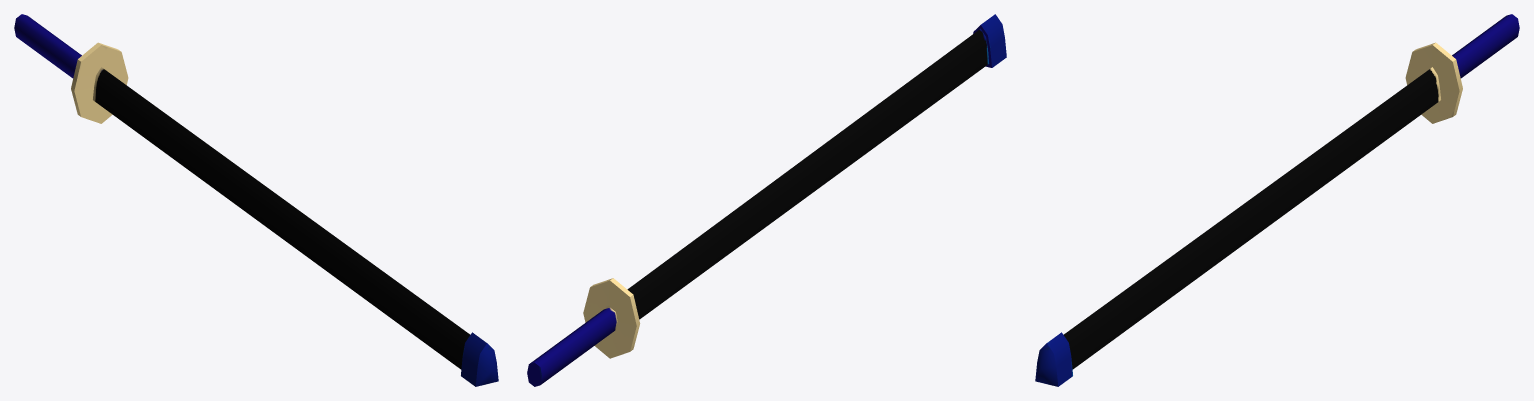
Rendered from katana.fbx.
3 renders of one model, left to right at view 1: azimuth 30°, elevation 25°; view 2: azimuth 150°, elevation 25°; view 3: azimuth 330°, elevation 25°, orthographic.
Parts seen in each view (by area): view 1: Ninjato_Sheathed; view 2: Ninjato_Sheathed; view 3: Ninjato_Sheathed.
Boxes of the visible parts, x1,y1,x2,y2 form: Ninjato_Sheathed: (14,14,498,386); Ninjato_Sheathed: (527,14,1006,386); Ninjato_Sheathed: (1035,14,1519,386).
Size of the model in its own units: 4.99 by 6.96 by 75.21.
